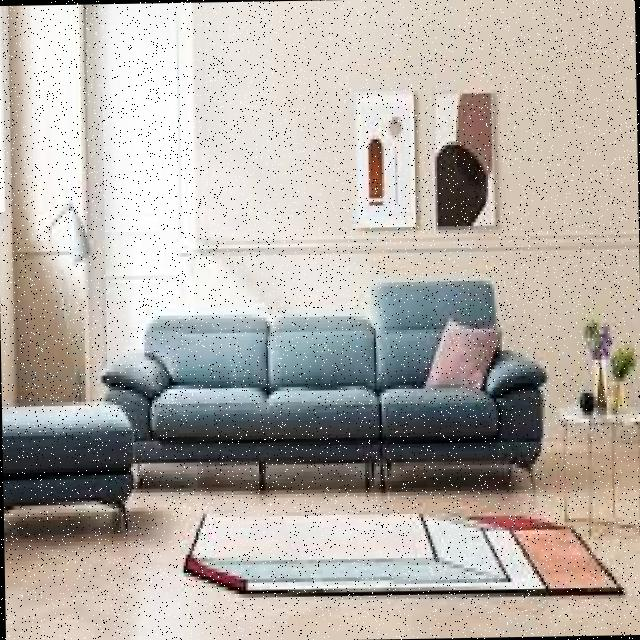Sofa: (100, 263, 570, 525)
